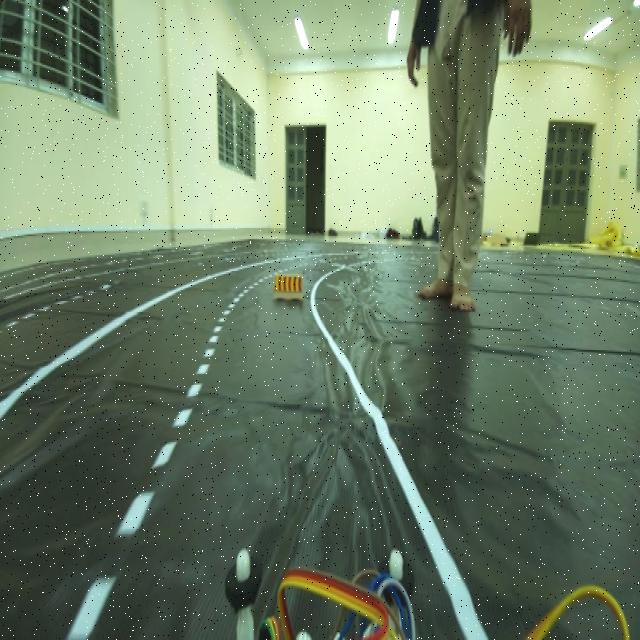roadblock: (270, 266, 306, 306)
